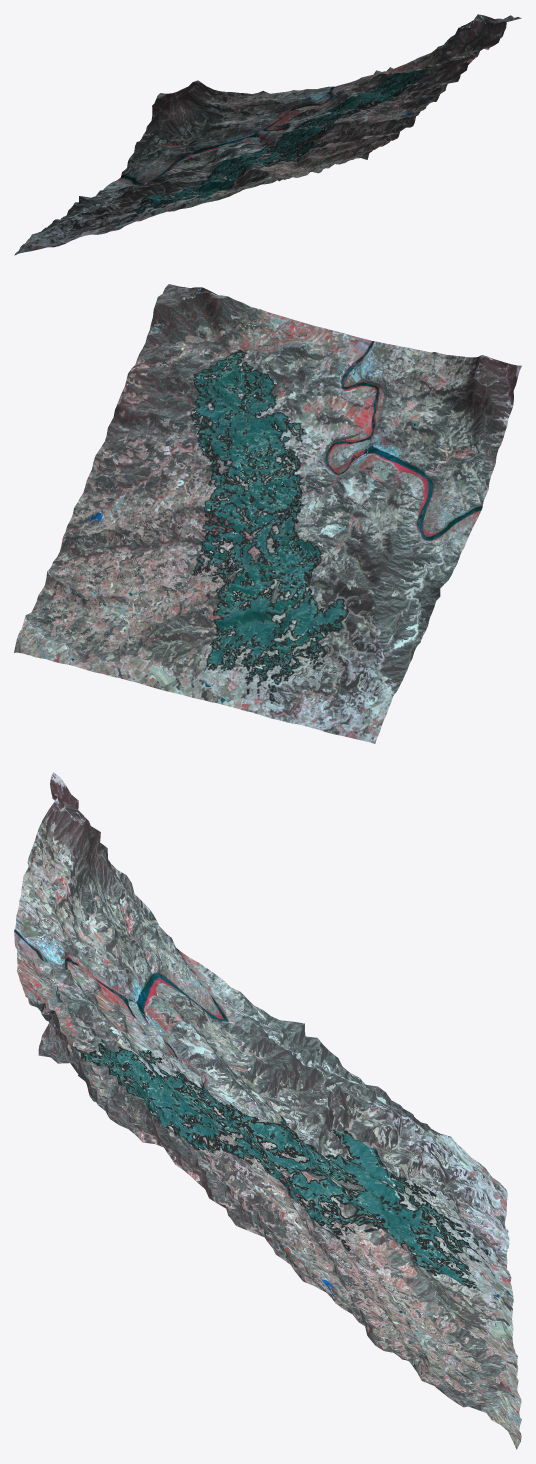
Rendered from focSentinelScale_2.obj.
3 renders of one model, top to bottom at view 1: azimuth 30°, elevation 25°; view 2: azimuth 150°, elevation 25°; view 3: azimuth 270°, elevation 25°, orthographic. The views are drawn at different scales.
Parts seen in each view (by area): view 1: sentinelFoc_MetElipResi_2Lineas_2; view 2: sentinelFoc_MetElipResi_2Lineas_2; view 3: sentinelFoc_MetElipResi_2Lineas_2.
Part boxes in pixels (<box>): sentinelFoc_MetElipResi_2Lineas_2: <box>14,14,521,255</box>; sentinelFoc_MetElipResi_2Lineas_2: <box>14,284,521,743</box>; sentinelFoc_MetElipResi_2Lineas_2: <box>14,772,521,1449</box>.
Size of the model in its own units: 57.18 by 41.81 by 45.54.
1 material, 1 textured.
